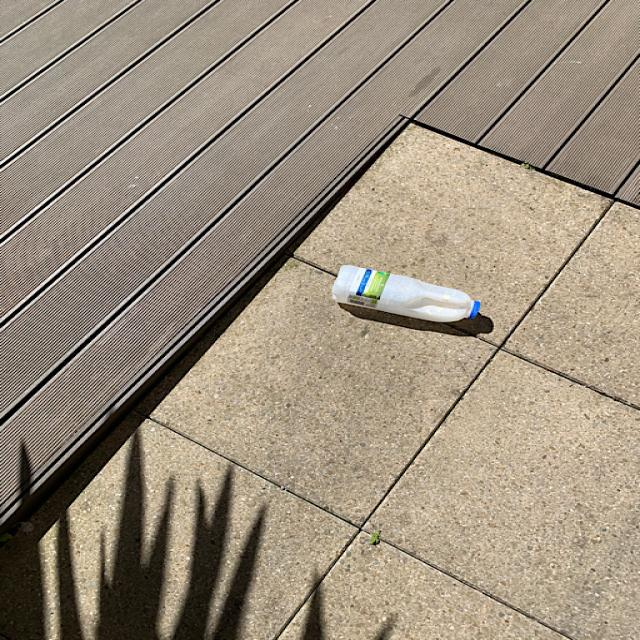litter: (325, 260, 487, 332)
